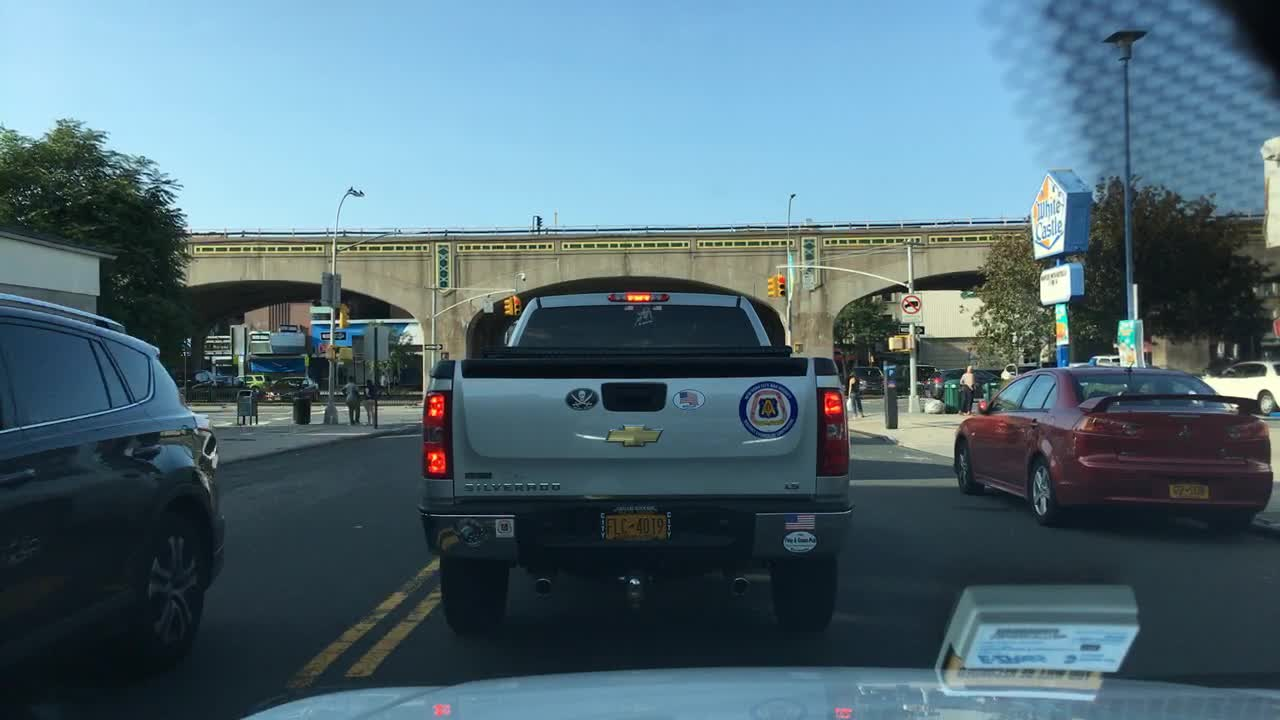car: (0, 289, 231, 678), (951, 362, 1274, 533), (1192, 357, 1279, 416), (932, 367, 999, 404), (267, 375, 320, 404), (192, 376, 246, 402), (852, 365, 888, 396), (900, 361, 932, 394), (239, 372, 267, 397), (1091, 352, 1129, 365)
person: (340, 374, 362, 426), (958, 364, 978, 415), (847, 366, 863, 420), (362, 381, 379, 426), (377, 370, 392, 397)
traffic light: (886, 337, 913, 352), (765, 275, 777, 297), (341, 304, 350, 331), (512, 295, 523, 317), (502, 297, 512, 319), (326, 347, 341, 361), (780, 275, 788, 300), (440, 351, 450, 364)
traffic sign: (319, 275, 342, 312), (897, 291, 922, 325), (320, 330, 352, 342), (898, 325, 925, 336), (421, 342, 445, 352), (482, 300, 495, 314)
truck: (417, 287, 851, 633)
